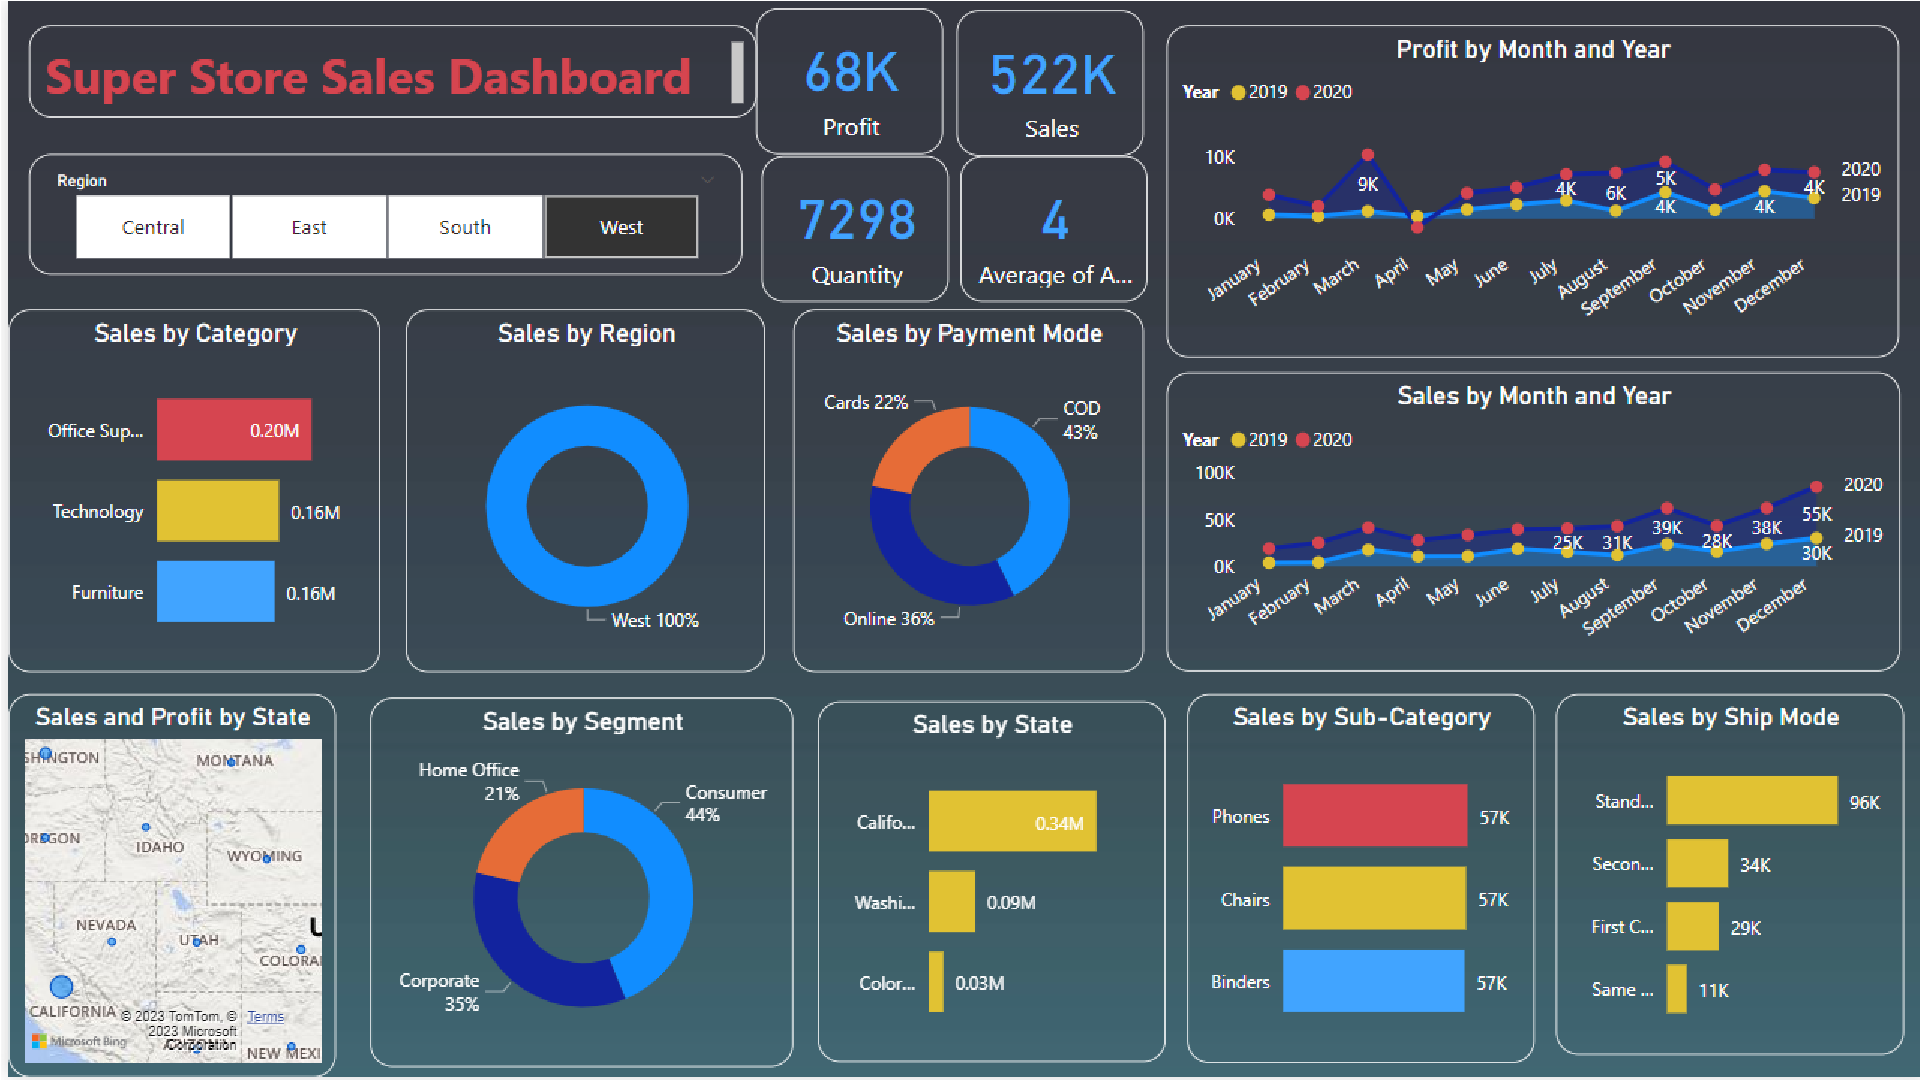

What the dashboard file says about the page in this screenshot:
{"tool":"powerbi","page":{"name":"Page 1","canvas":[1280,720],"ordinal":0},"visuals":[{"type":"clusteredBarChart","fields":{"Category":["SuperStore_Sales_Dataset.Category"],"Y":["Sum(SuperStore_Sales_Dataset.Sales)"]},"box":[0,205.8,248.3,242.8],"z":0},{"type":"clusteredBarChart","fields":{"Y":["Sum(SuperStore_Sales_Dataset.Sales)"],"Category":["SuperStore_Sales_Dataset.Sub-Category"]},"box":[786.1,463.7,231.9,246.9],"z":1000},{"type":"clusteredBarChart","fields":{"Y":["Sum(SuperStore_Sales_Dataset.Sales)"],"Category":["SuperStore_Sales_Dataset.Ship Mode"]},"box":[1033.1,463.7,231.9,241.5],"z":2000},{"type":"stackedAreaChart","fields":{"Y":["Sum(SuperStore_Sales_Dataset.Sales)"],"Category":["SuperStore_Sales_Dataset.Order Date.Variation.Date Hierarchy.Month","SuperStore_Sales_Dataset.Order Date.Variation.Date Hierarchy.Day"],"Series":["SuperStore_Sales_Dataset.Order Date.Variation.Date Hierarchy.Year"]},"box":[772.4,248.3,489.8,200.3],"z":2001},{"type":"stackedAreaChart","fields":{"Category":["SuperStore_Sales_Dataset.Order Date.Variation.Date Hierarchy.Month","SuperStore_Sales_Dataset.Order Date.Variation.Date Hierarchy.Day"],"Series":["SuperStore_Sales_Dataset.Order Date.Variation.Date Hierarchy.Year"],"Y":["Sum(SuperStore_Sales_Dataset.Profit)"]},"box":[772.4,16.5,488.4,222.3],"z":2002},{"type":"map","fields":{"Category":["SuperStore_Sales_Dataset.State"],"Size":["Sum(SuperStore_Sales_Dataset.Sales)"]},"box":[0,463.7,218.1,256.5],"z":2003},{"type":"donutChart","fields":{"Category":["SuperStore_Sales_Dataset.Segment"],"Y":["Sum(SuperStore_Sales_Dataset.Sales)"]},"box":[241.5,466.5,282.6,246.9],"z":2004},{"type":"donutChart","fields":{"Y":["Sum(SuperStore_Sales_Dataset.Sales)"],"Category":["SuperStore_Sales_Dataset.Payment Mode"]},"box":[524.1,205.8,233.2,242.8],"z":2005},{"type":"donutChart","fields":{"Y":["Sum(SuperStore_Sales_Dataset.Sales)"],"Category":["SuperStore_Sales_Dataset.Region"]},"box":[264.8,205.8,240.1,242.8],"z":2006},{"type":"slicer","fields":{"Values":["SuperStore_Sales_Dataset.Region"]},"box":[13.7,102.9,476.1,80.9],"z":2007},{"type":"textbox","box":[13.7,16.5,485.7,61.7],"z":2008},{"type":"card","fields":{"Values":["Sum(SuperStore_Sales_Dataset.Profit)"]},"box":[499.1,5.4,124.8,97.4],"z":2009},{"type":"card","fields":{"Values":["Sum(SuperStore_Sales_Dataset.Sales)"]},"box":[632.2,6.8,124.8,97.4],"z":2010},{"type":"card","fields":{"Values":["Sum(SuperStore_Sales_Dataset.Quantity)"]},"box":[502.4,104,124.8,97.4],"z":2011},{"type":"card","fields":{"Values":["Avg(SuperStore_Sales_Dataset.AvgDeliveryDay)"]},"box":[635.5,104,124.8,97.4],"z":2012},{"type":"clusteredBarChart","fields":{"Y":["Sum(SuperStore_Sales_Dataset.Sales)"],"Category":["SuperStore_Sales_Dataset.State"]},"box":[540.5,469.2,231.9,241.5],"z":2013}]}

Visuals, with their boxes in screenshot pixels (x1, y1, x2, y2), scaled from the page's 1280x720 canvas onto the 1920x1080 screenshot:
clusteredBarChart - SuperStore_Sales_Dataset.Category x Sum(SuperStore_Sales_Dataset.Sales): <region>0, 309, 372, 673</region>
clusteredBarChart - Sum(SuperStore_Sales_Dataset.Sales) x SuperStore_Sales_Dataset.Sub-Category: <region>1179, 696, 1527, 1066</region>
clusteredBarChart - Sum(SuperStore_Sales_Dataset.Sales) x SuperStore_Sales_Dataset.Ship Mode: <region>1550, 696, 1898, 1058</region>
stackedAreaChart - Sum(SuperStore_Sales_Dataset.Sales) x SuperStore_Sales_Dataset.Order Date.Variation.Date Hierarchy.Month: <region>1159, 372, 1893, 673</region>
stackedAreaChart - SuperStore_Sales_Dataset.Order Date.Variation.Date Hierarchy.Month x SuperStore_Sales_Dataset.Order Date.Variation.Date Hierarchy.Day: <region>1159, 25, 1891, 358</region>
map - SuperStore_Sales_Dataset.State x Sum(SuperStore_Sales_Dataset.Sales): <region>0, 696, 327, 1079</region>
donutChart - SuperStore_Sales_Dataset.Segment x Sum(SuperStore_Sales_Dataset.Sales): <region>362, 700, 786, 1070</region>
donutChart - Sum(SuperStore_Sales_Dataset.Sales) x SuperStore_Sales_Dataset.Payment Mode: <region>786, 309, 1136, 673</region>
donutChart - Sum(SuperStore_Sales_Dataset.Sales) x SuperStore_Sales_Dataset.Region: <region>397, 309, 757, 673</region>
slicer - SuperStore_Sales_Dataset.Region: <region>21, 154, 735, 276</region>
textbox: <region>21, 25, 749, 117</region>
card - Sum(SuperStore_Sales_Dataset.Profit): <region>749, 8, 936, 154</region>
card - Sum(SuperStore_Sales_Dataset.Sales): <region>948, 10, 1136, 156</region>
card - Sum(SuperStore_Sales_Dataset.Quantity): <region>754, 156, 941, 302</region>
card - Avg(SuperStore_Sales_Dataset.AvgDeliveryDay): <region>953, 156, 1140, 302</region>
clusteredBarChart - Sum(SuperStore_Sales_Dataset.Sales) x SuperStore_Sales_Dataset.State: <region>811, 704, 1159, 1066</region>
